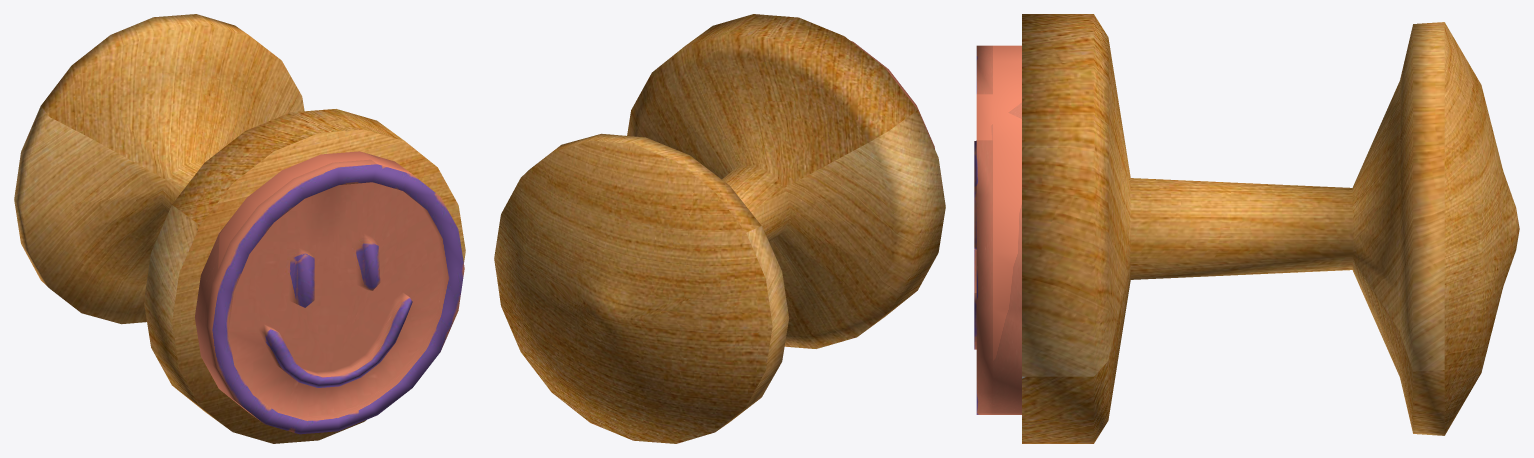
The model's file is Stempel 1.fbx.
3 renders of one model, left to right at view 1: azimuth 30°, elevation 25°; view 2: azimuth 150°, elevation 25°; view 3: azimuth 270°, elevation 25°, orthographic. The views are drawn at different scales.
Visible parts, largest first — view 1: holz, stempel; view 2: holz; view 3: holz, stempel.
Part boxes in pixels (bbox=[...]): holz: bbox=[14, 14, 465, 443]; stempel: bbox=[195, 151, 464, 434]; holz: bbox=[494, 14, 945, 443]; holz: bbox=[1022, 14, 1519, 443]; stempel: bbox=[974, 45, 1021, 414].
Bounding box in the file's own units: 5.78 × 5.78 × 7.28.
